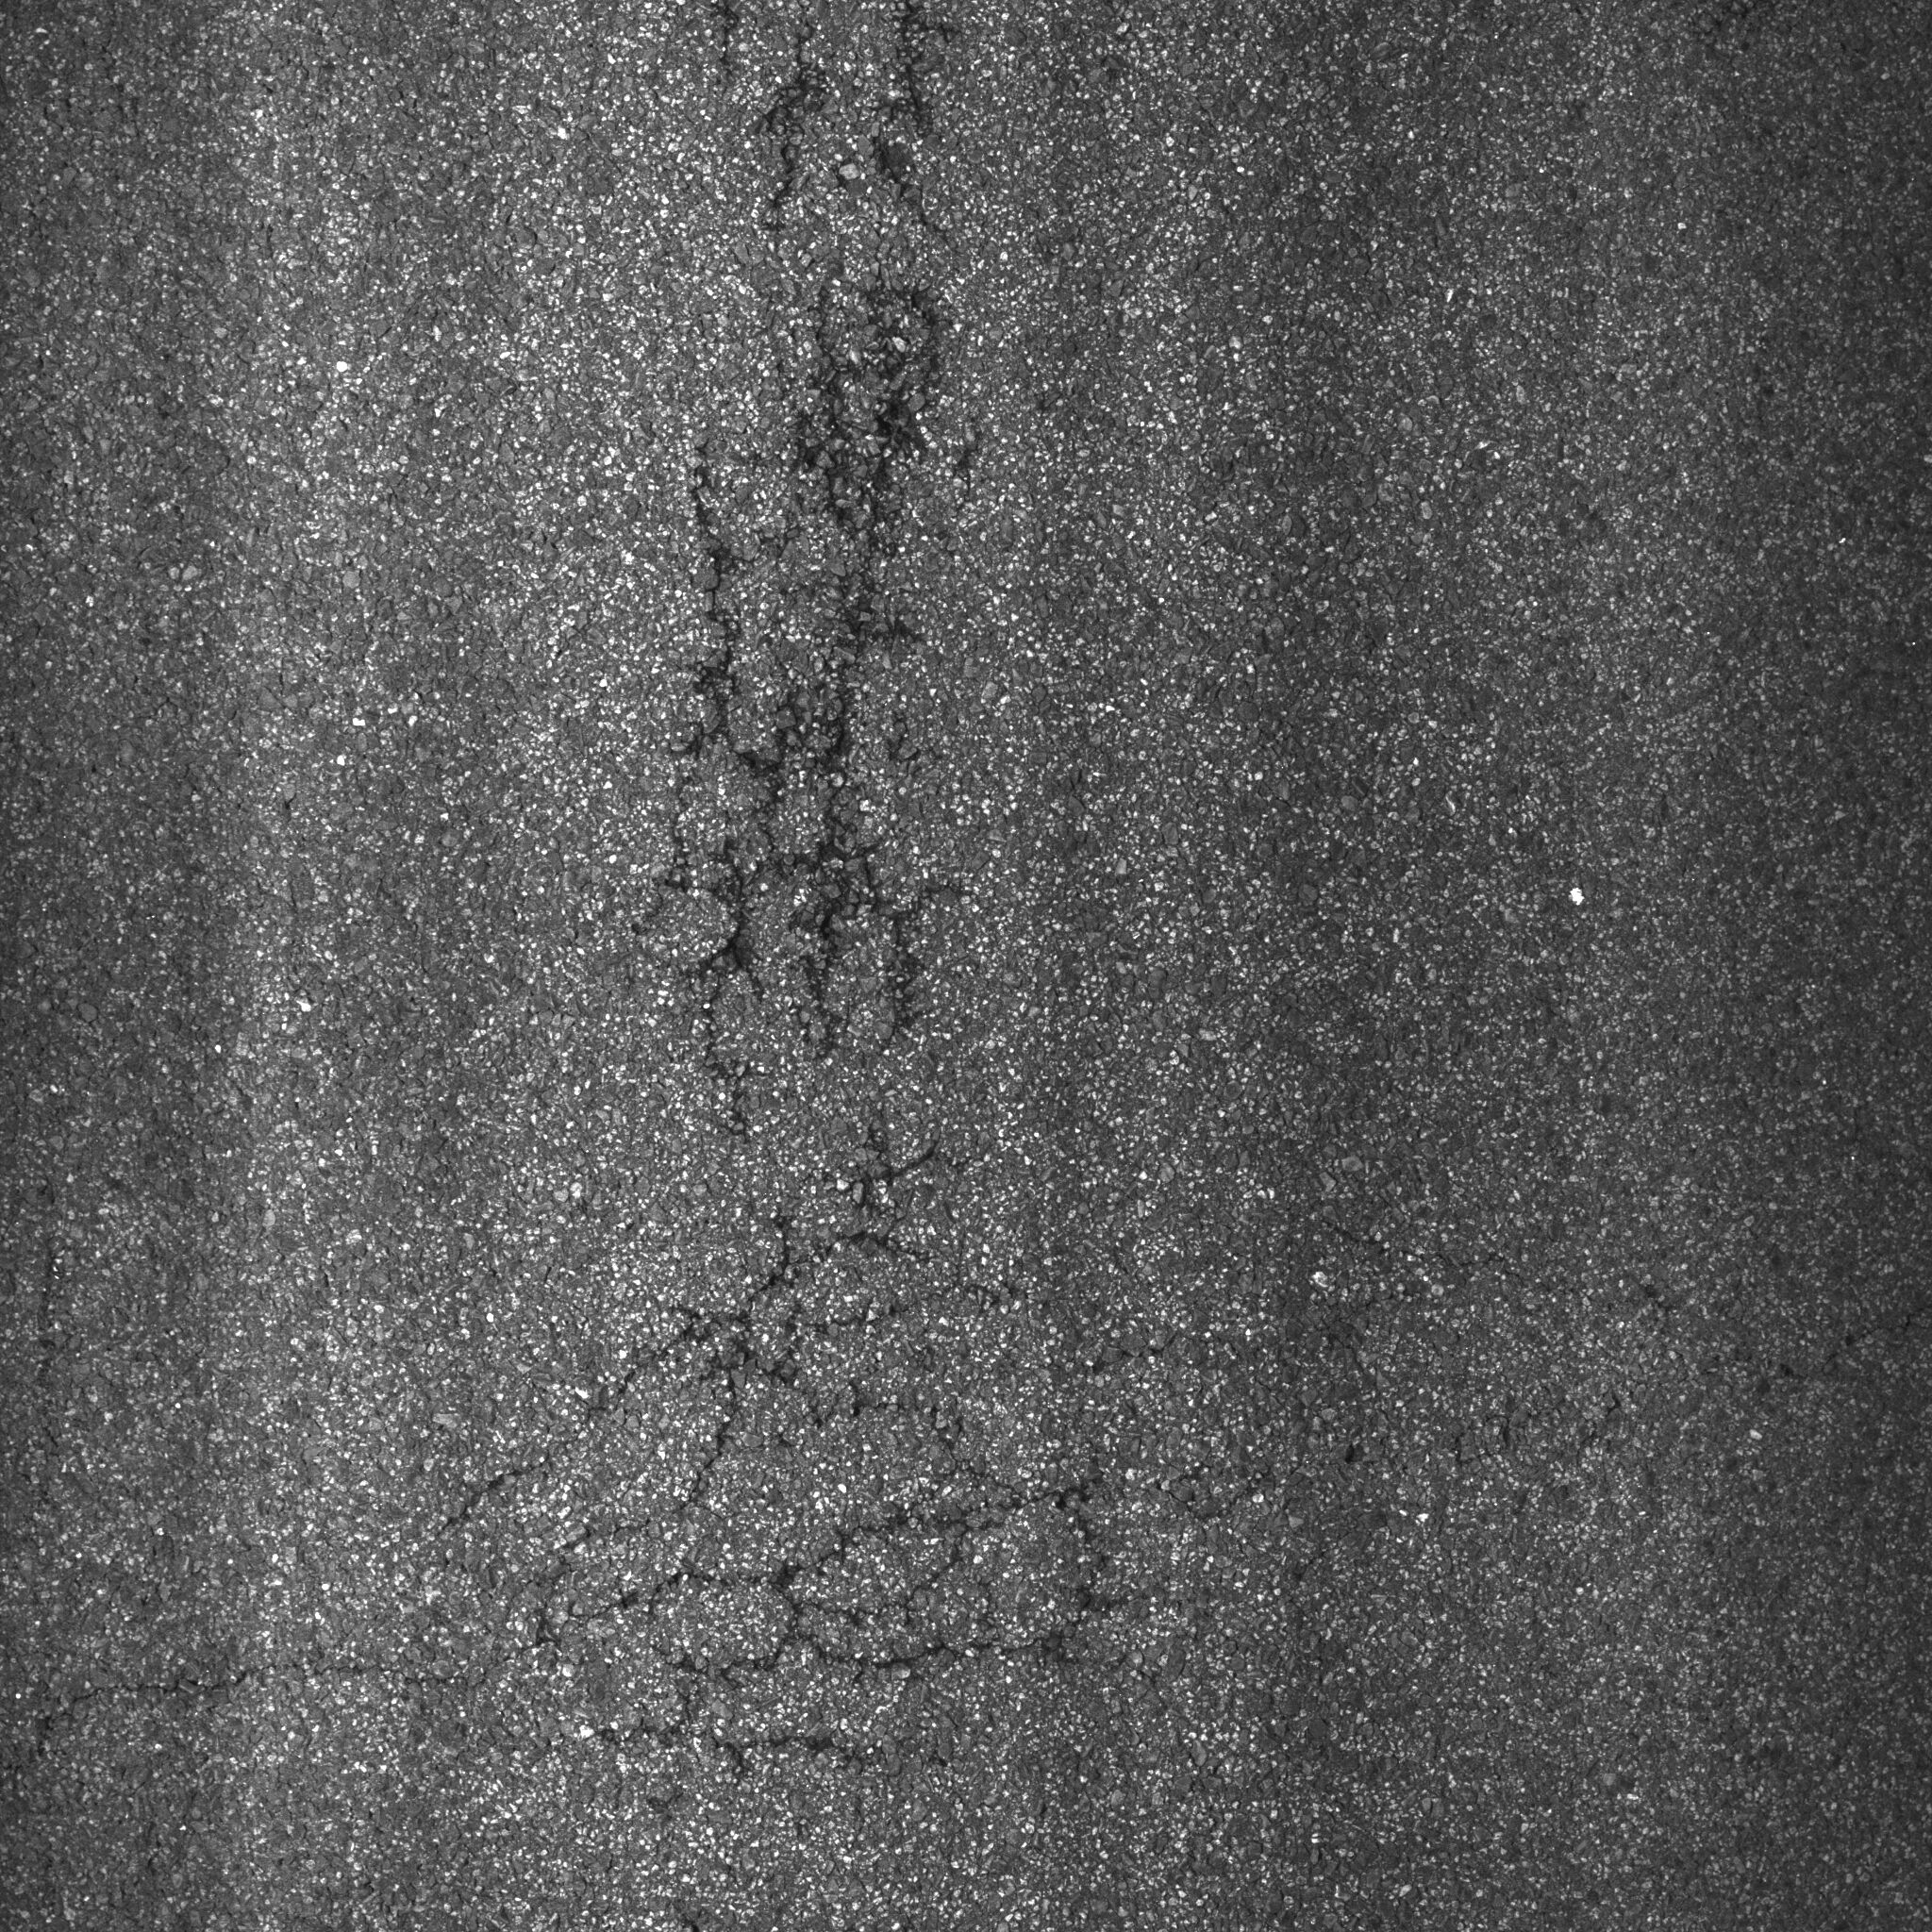alligator: (435, 2, 1233, 1916)
